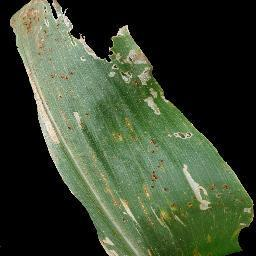Corn_Common_Rust: (16, 0, 77, 145), (123, 25, 182, 119), (178, 165, 256, 214), (131, 175, 177, 254), (79, 15, 142, 71), (100, 171, 131, 213), (95, 223, 126, 256), (149, 135, 168, 176), (113, 120, 138, 150), (173, 126, 200, 143), (203, 232, 220, 246), (238, 220, 252, 232), (84, 110, 94, 123), (198, 245, 208, 256)
